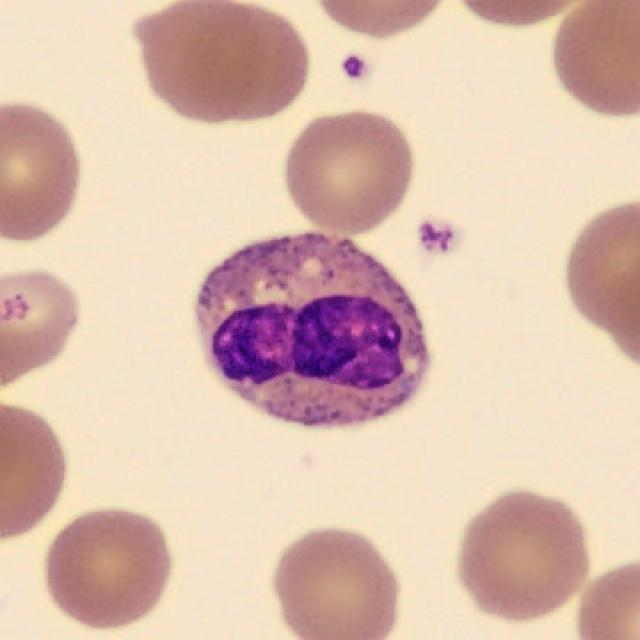Bastonete: (194, 233, 430, 430)
